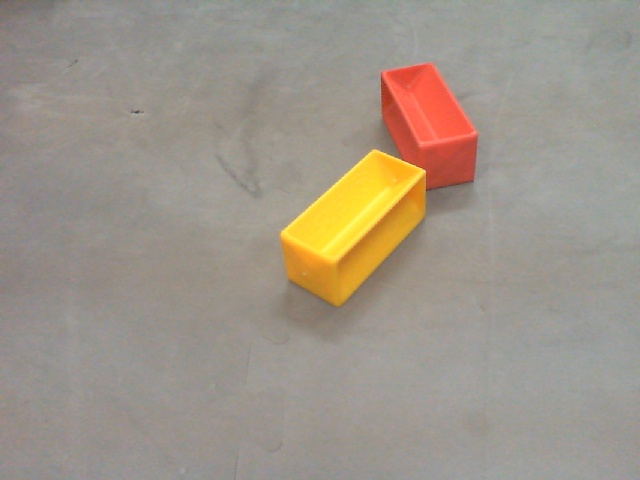RedSample: (378, 63, 479, 190)
YellowSample: (281, 152, 426, 301)
